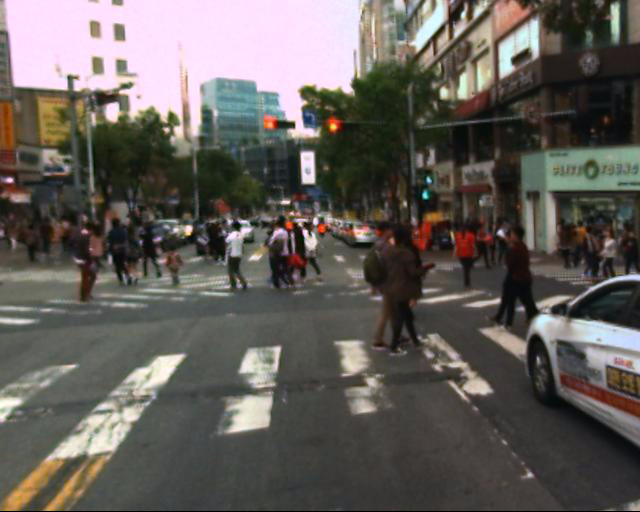person: (366, 213, 432, 374), (501, 219, 547, 355), (435, 217, 532, 277), (540, 220, 631, 274), (64, 213, 103, 317), (444, 210, 487, 301), (220, 217, 262, 302), (265, 216, 297, 303), (135, 215, 170, 288), (115, 219, 143, 293), (598, 226, 629, 283), (87, 219, 112, 278), (165, 244, 192, 297)
